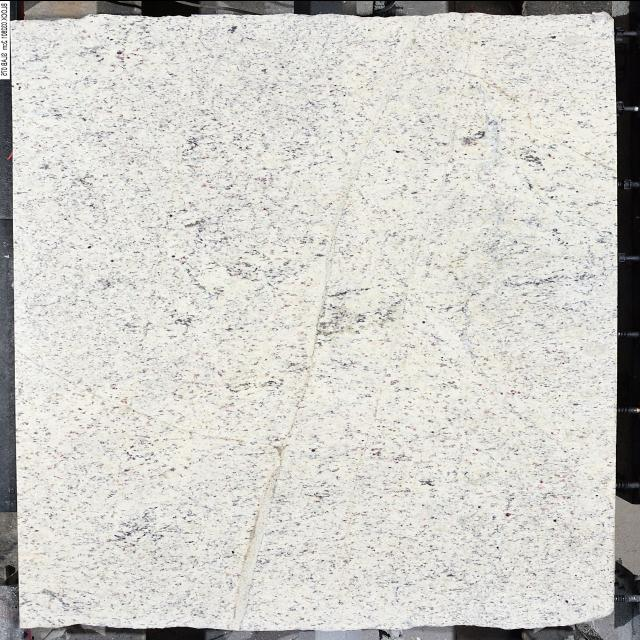chapa: (13, 11, 617, 630)
